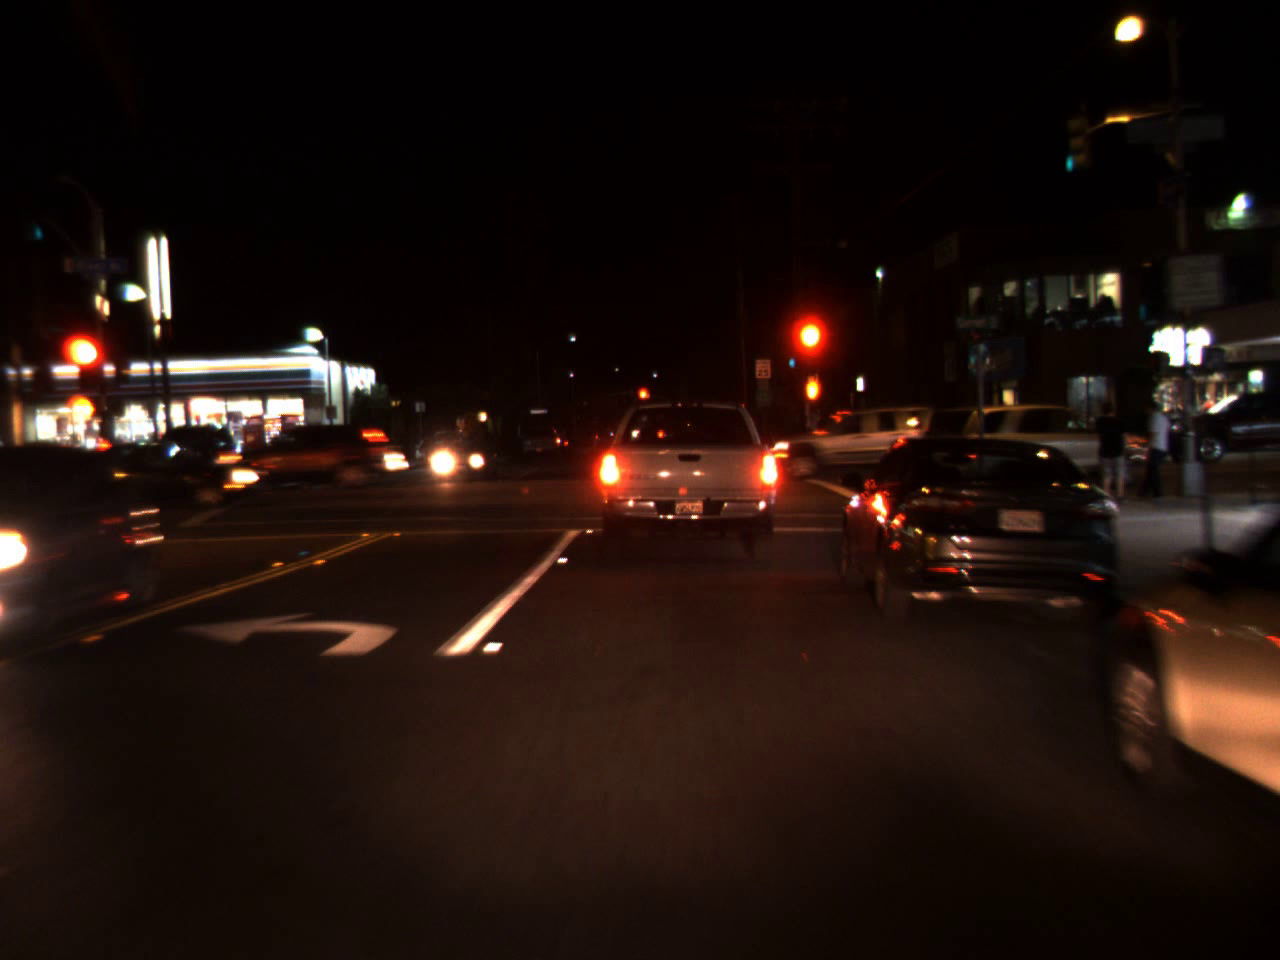stop: (57, 331, 106, 403), (793, 319, 824, 378), (636, 386, 651, 410)
